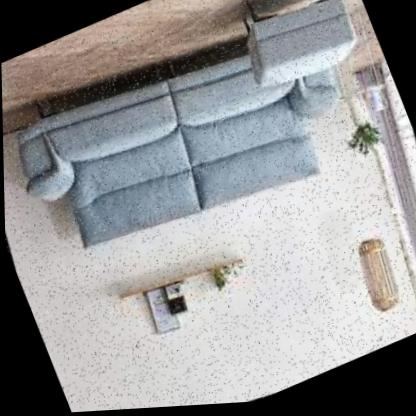Sofa: (0, 0, 395, 313)
